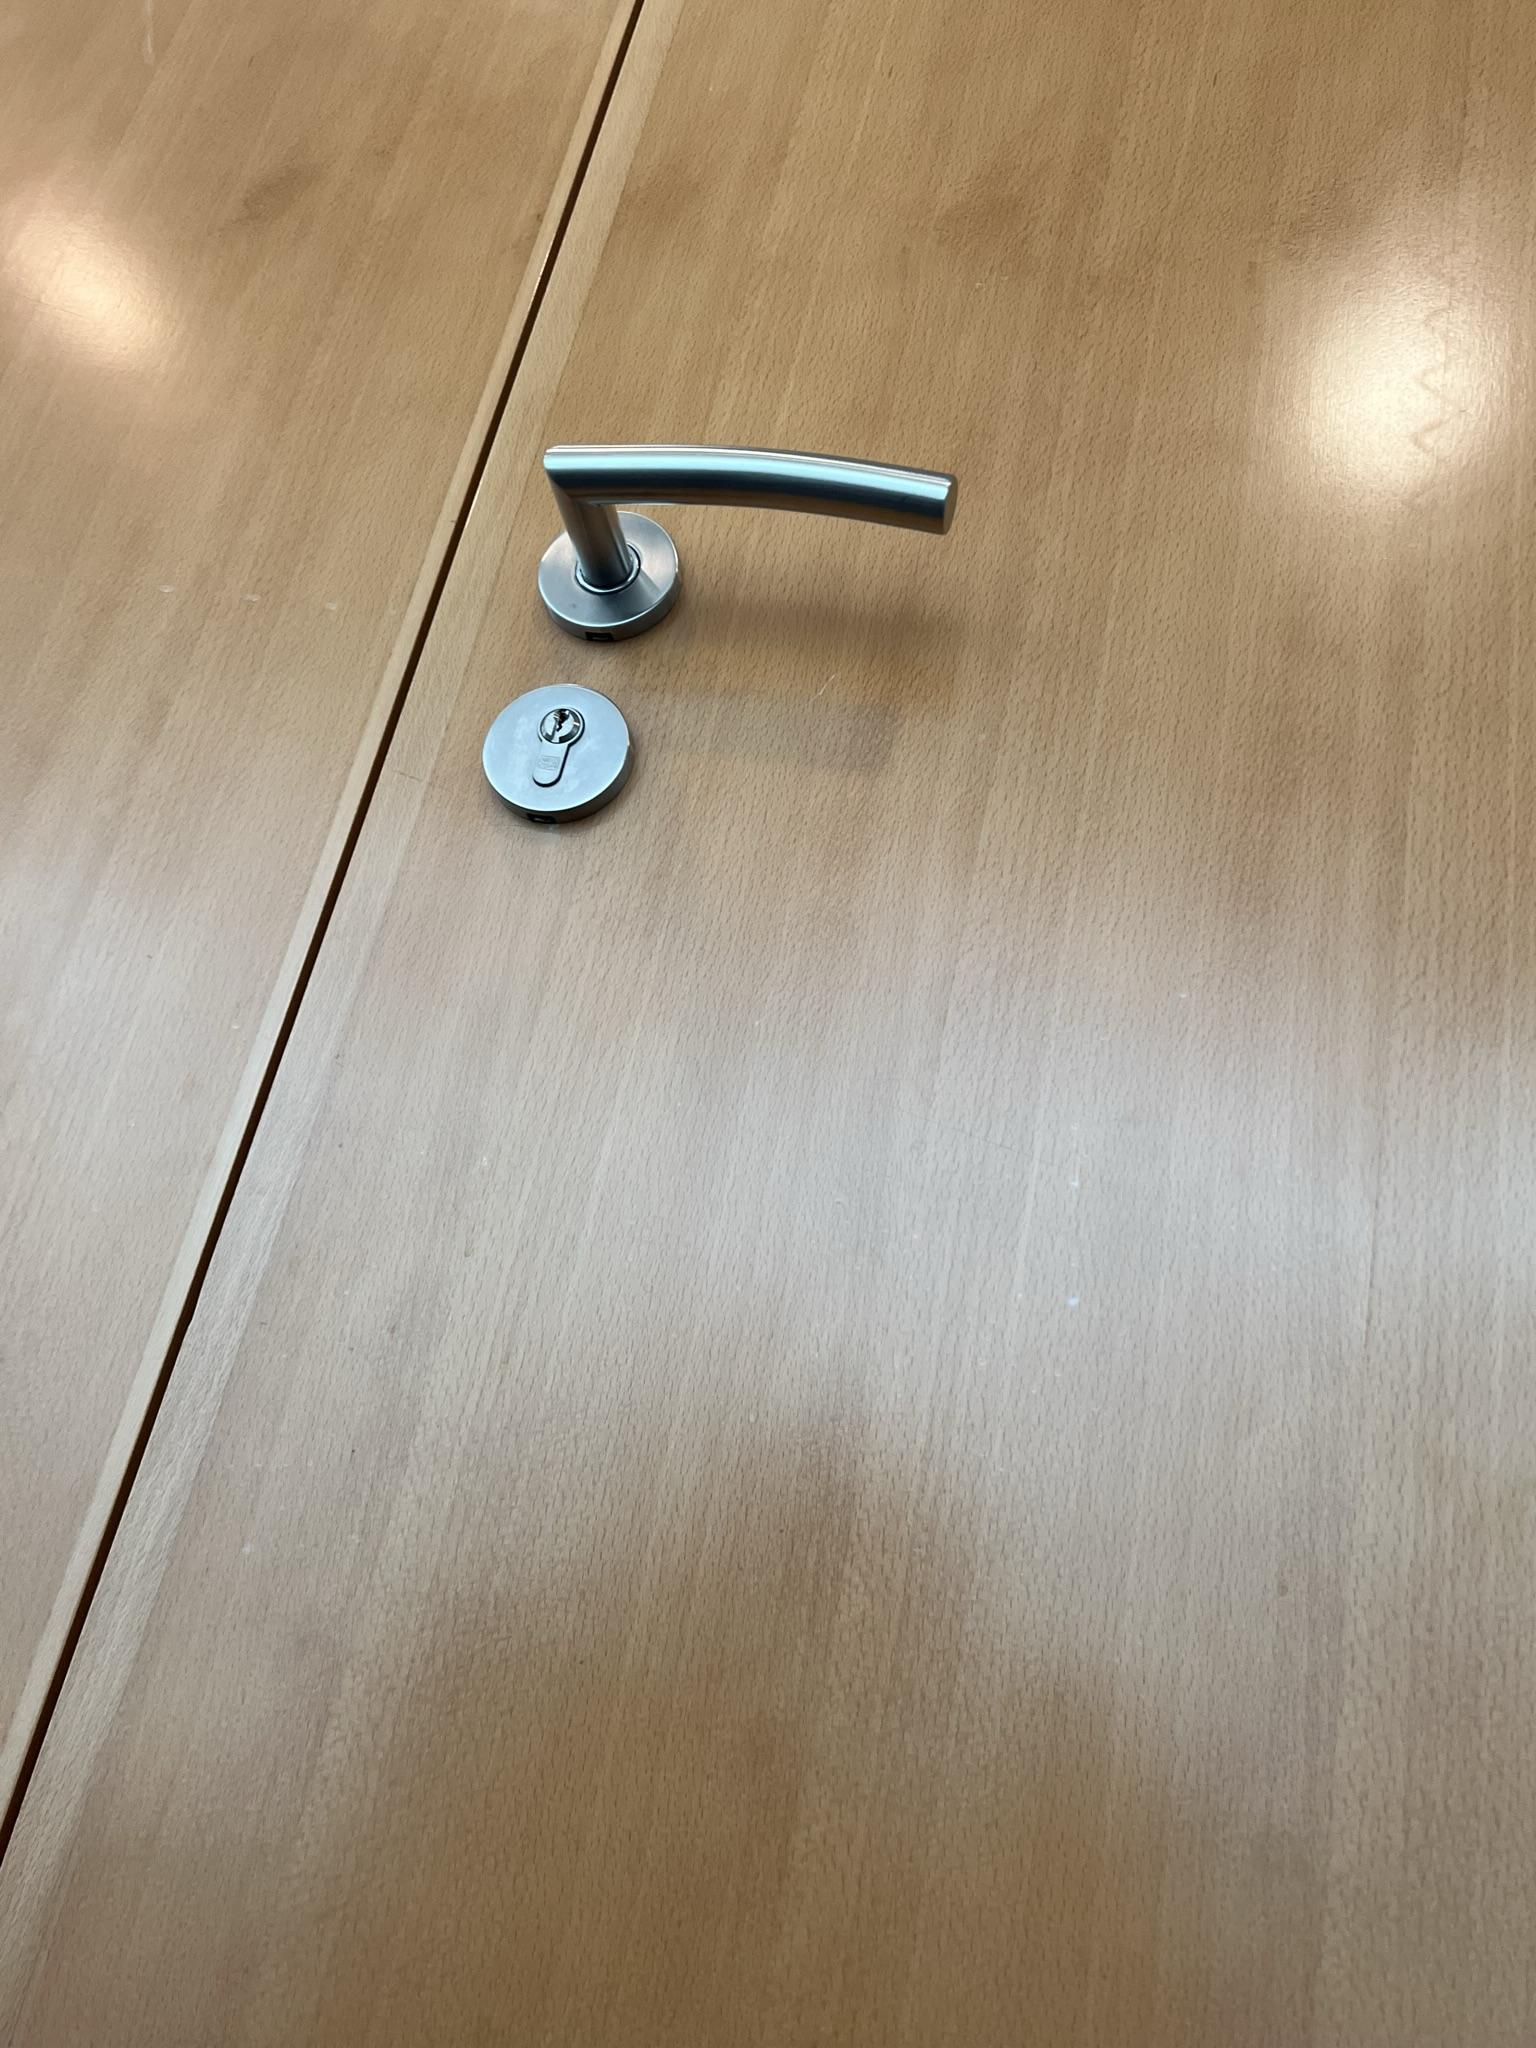door: (397, 16, 1484, 2027)
handle: (507, 426, 975, 639)
